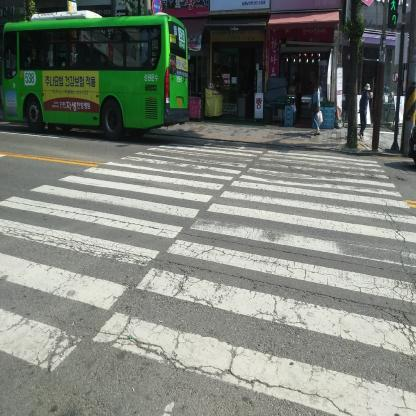Green: (388, 0, 398, 27)
